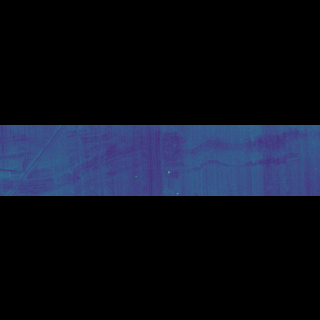Loch: (0, 151, 145, 168), (158, 151, 302, 163)
